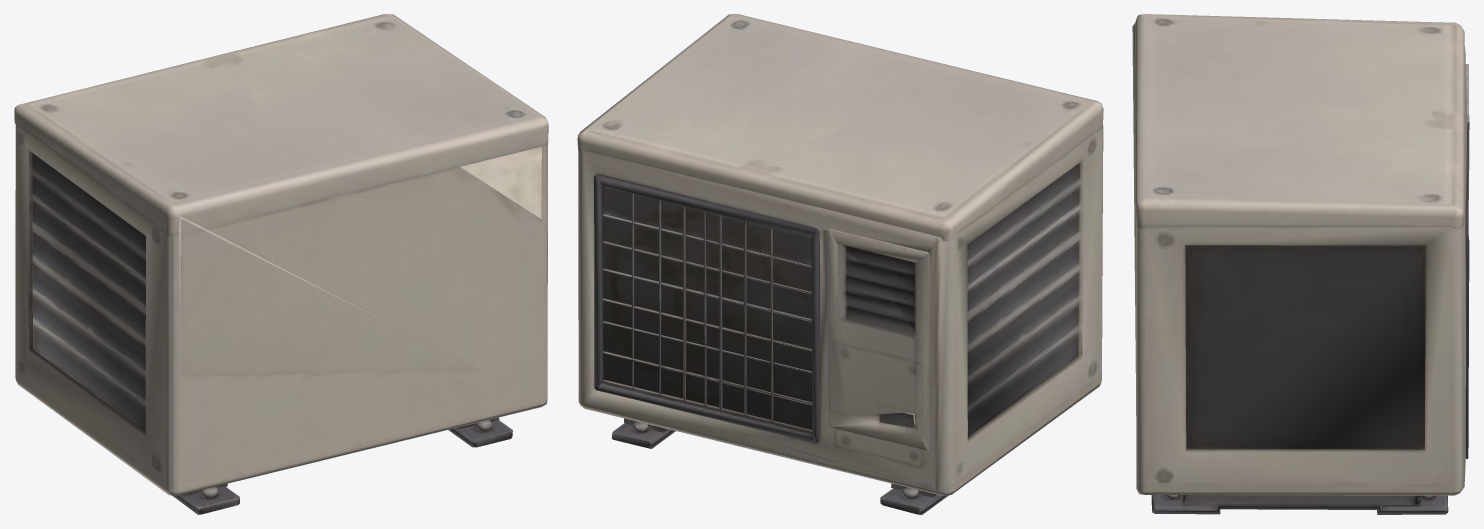
Rendered from roof-ac.glb.
3 views of the same model, side by side, from view 1: azimuth 30°, elevation 25°; view 2: azimuth 150°, elevation 25°; view 3: azimuth 270°, elevation 25° (orthographic). The views are drawn at different scales.
Visible parts, largest first — view 1: shell-meshy-roof-ac--1; view 2: shell-meshy-roof-ac--1; view 3: shell-meshy-roof-ac--1.
Part boxes in pixels (box(x1,y1,x2,y2)): shell-meshy-roof-ac--1: box(14, 14, 548, 514); shell-meshy-roof-ac--1: box(577, 14, 1103, 514); shell-meshy-roof-ac--1: box(1132, 14, 1469, 514).
Size of the model in its own units: 1.25 by 1 by 0.9326.
1 material, 1 textured.
